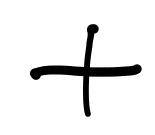mult: (31, 25, 139, 114)
